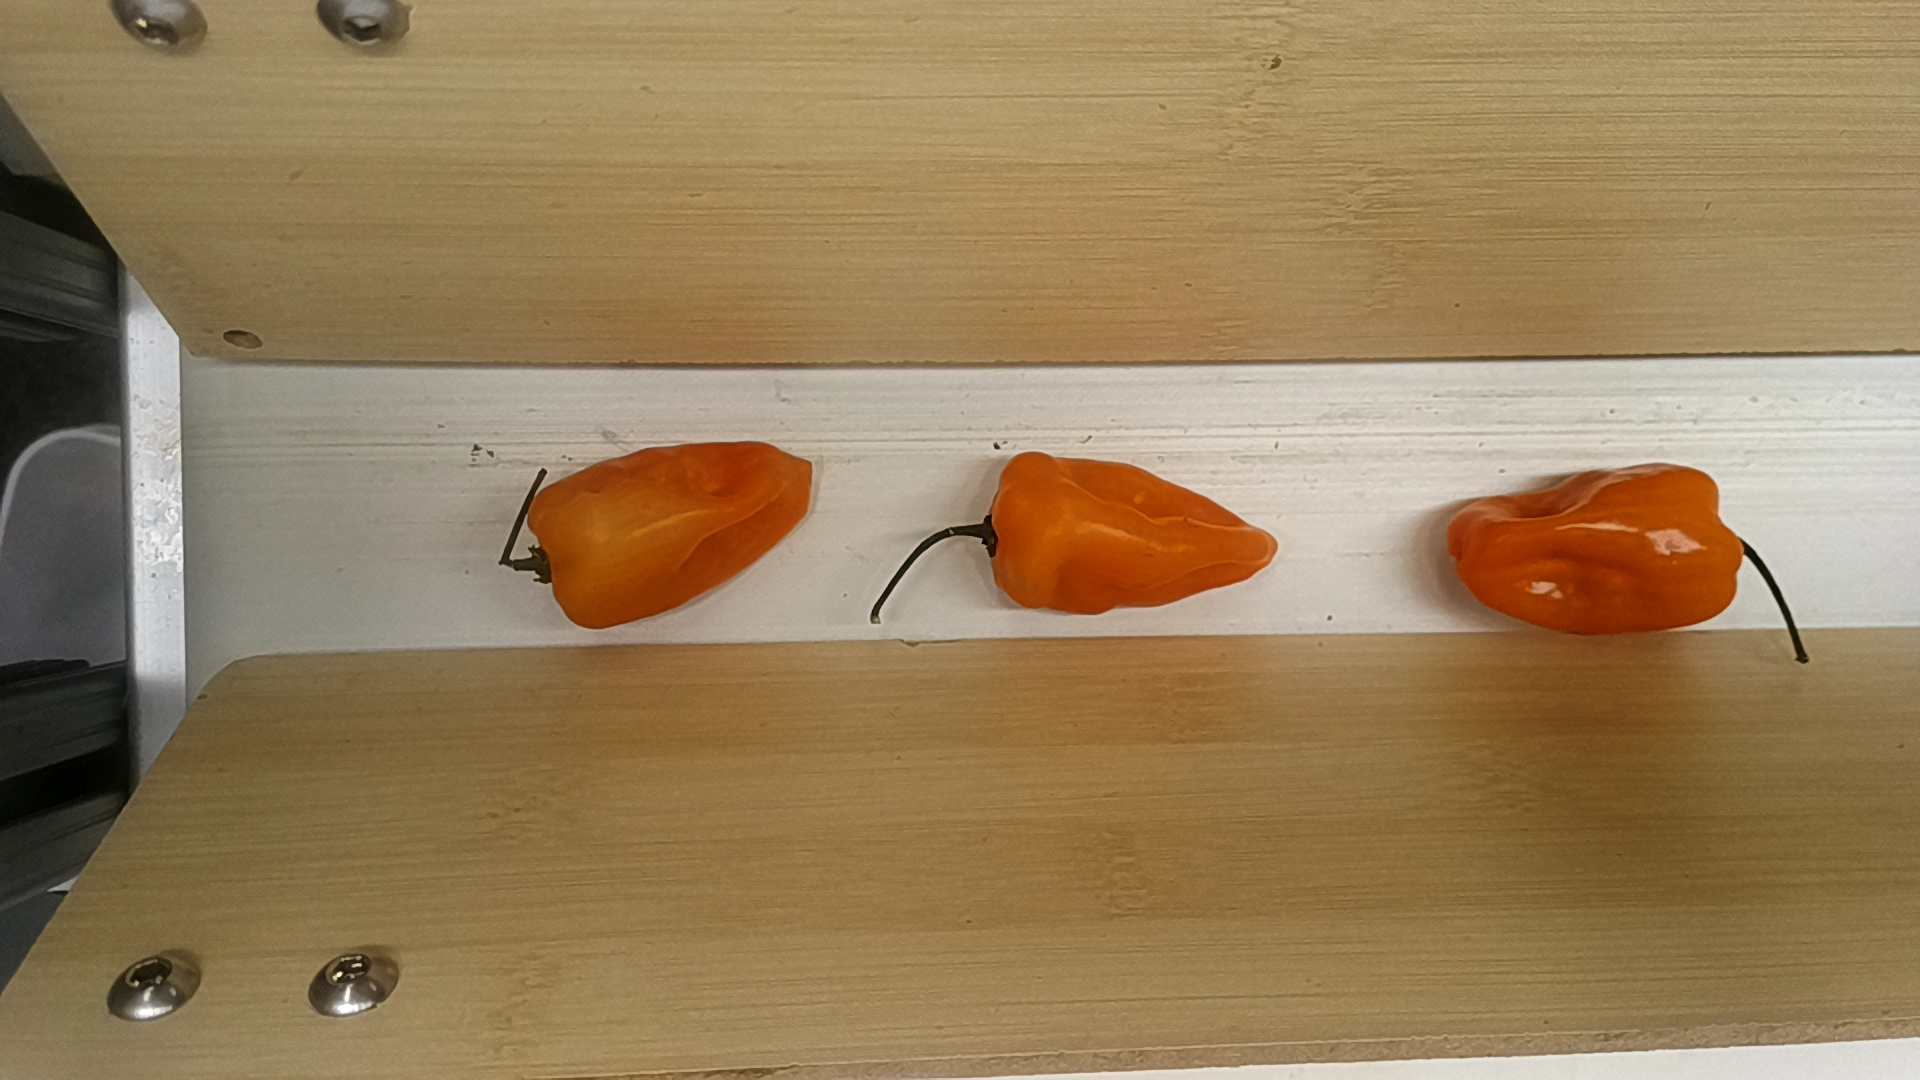Cut Point: (1705, 459, 1753, 633), (531, 468, 575, 651), (976, 444, 1022, 608)
